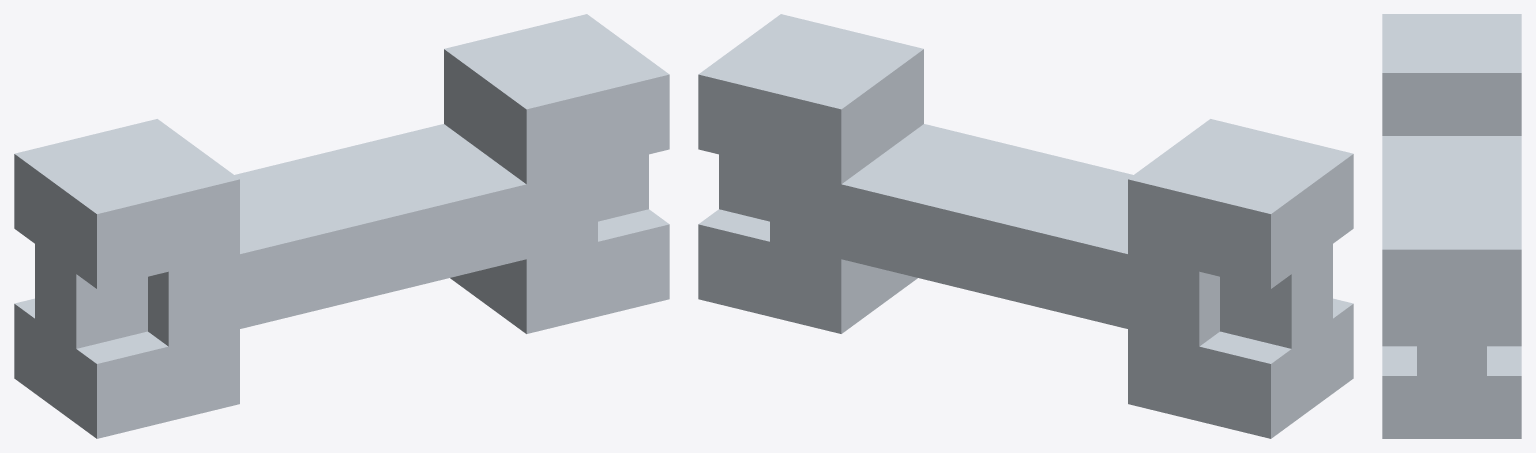
The model's file is bone.glb.
3 renders of one model, left to right at view 1: azimuth 30°, elevation 25°; view 2: azimuth 150°, elevation 25°; view 3: azimuth 270°, elevation 25°, orthographic. The views are drawn at different scales.
Parts seen in each view (by area): view 1: generated(Clone); view 2: generated(Clone); view 3: generated(Clone).
Part boxes in pixels (<box>): generated(Clone): <box>14,14,669,438</box>; generated(Clone): <box>698,14,1353,438</box>; generated(Clone): <box>1382,14,1521,438</box>.
Bounding box in the file's own units: 8 × 3 × 2.
1 material, 1 textured.
